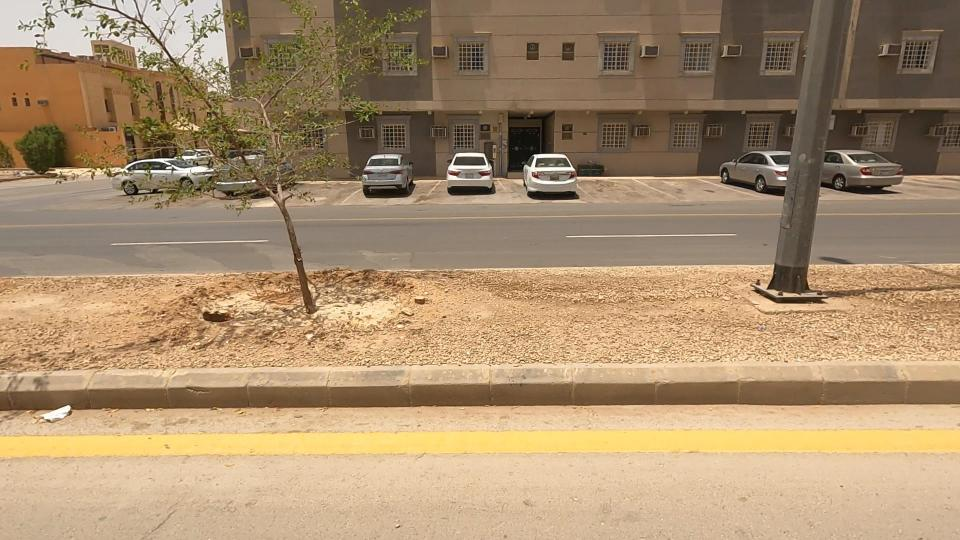GARBAGE: (0, 376, 140, 444)
